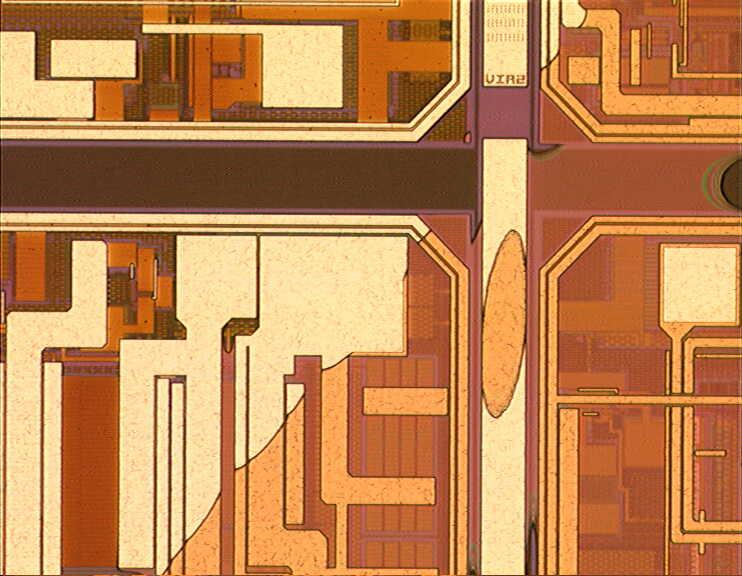COATING BAD: (161, 1, 742, 576)
